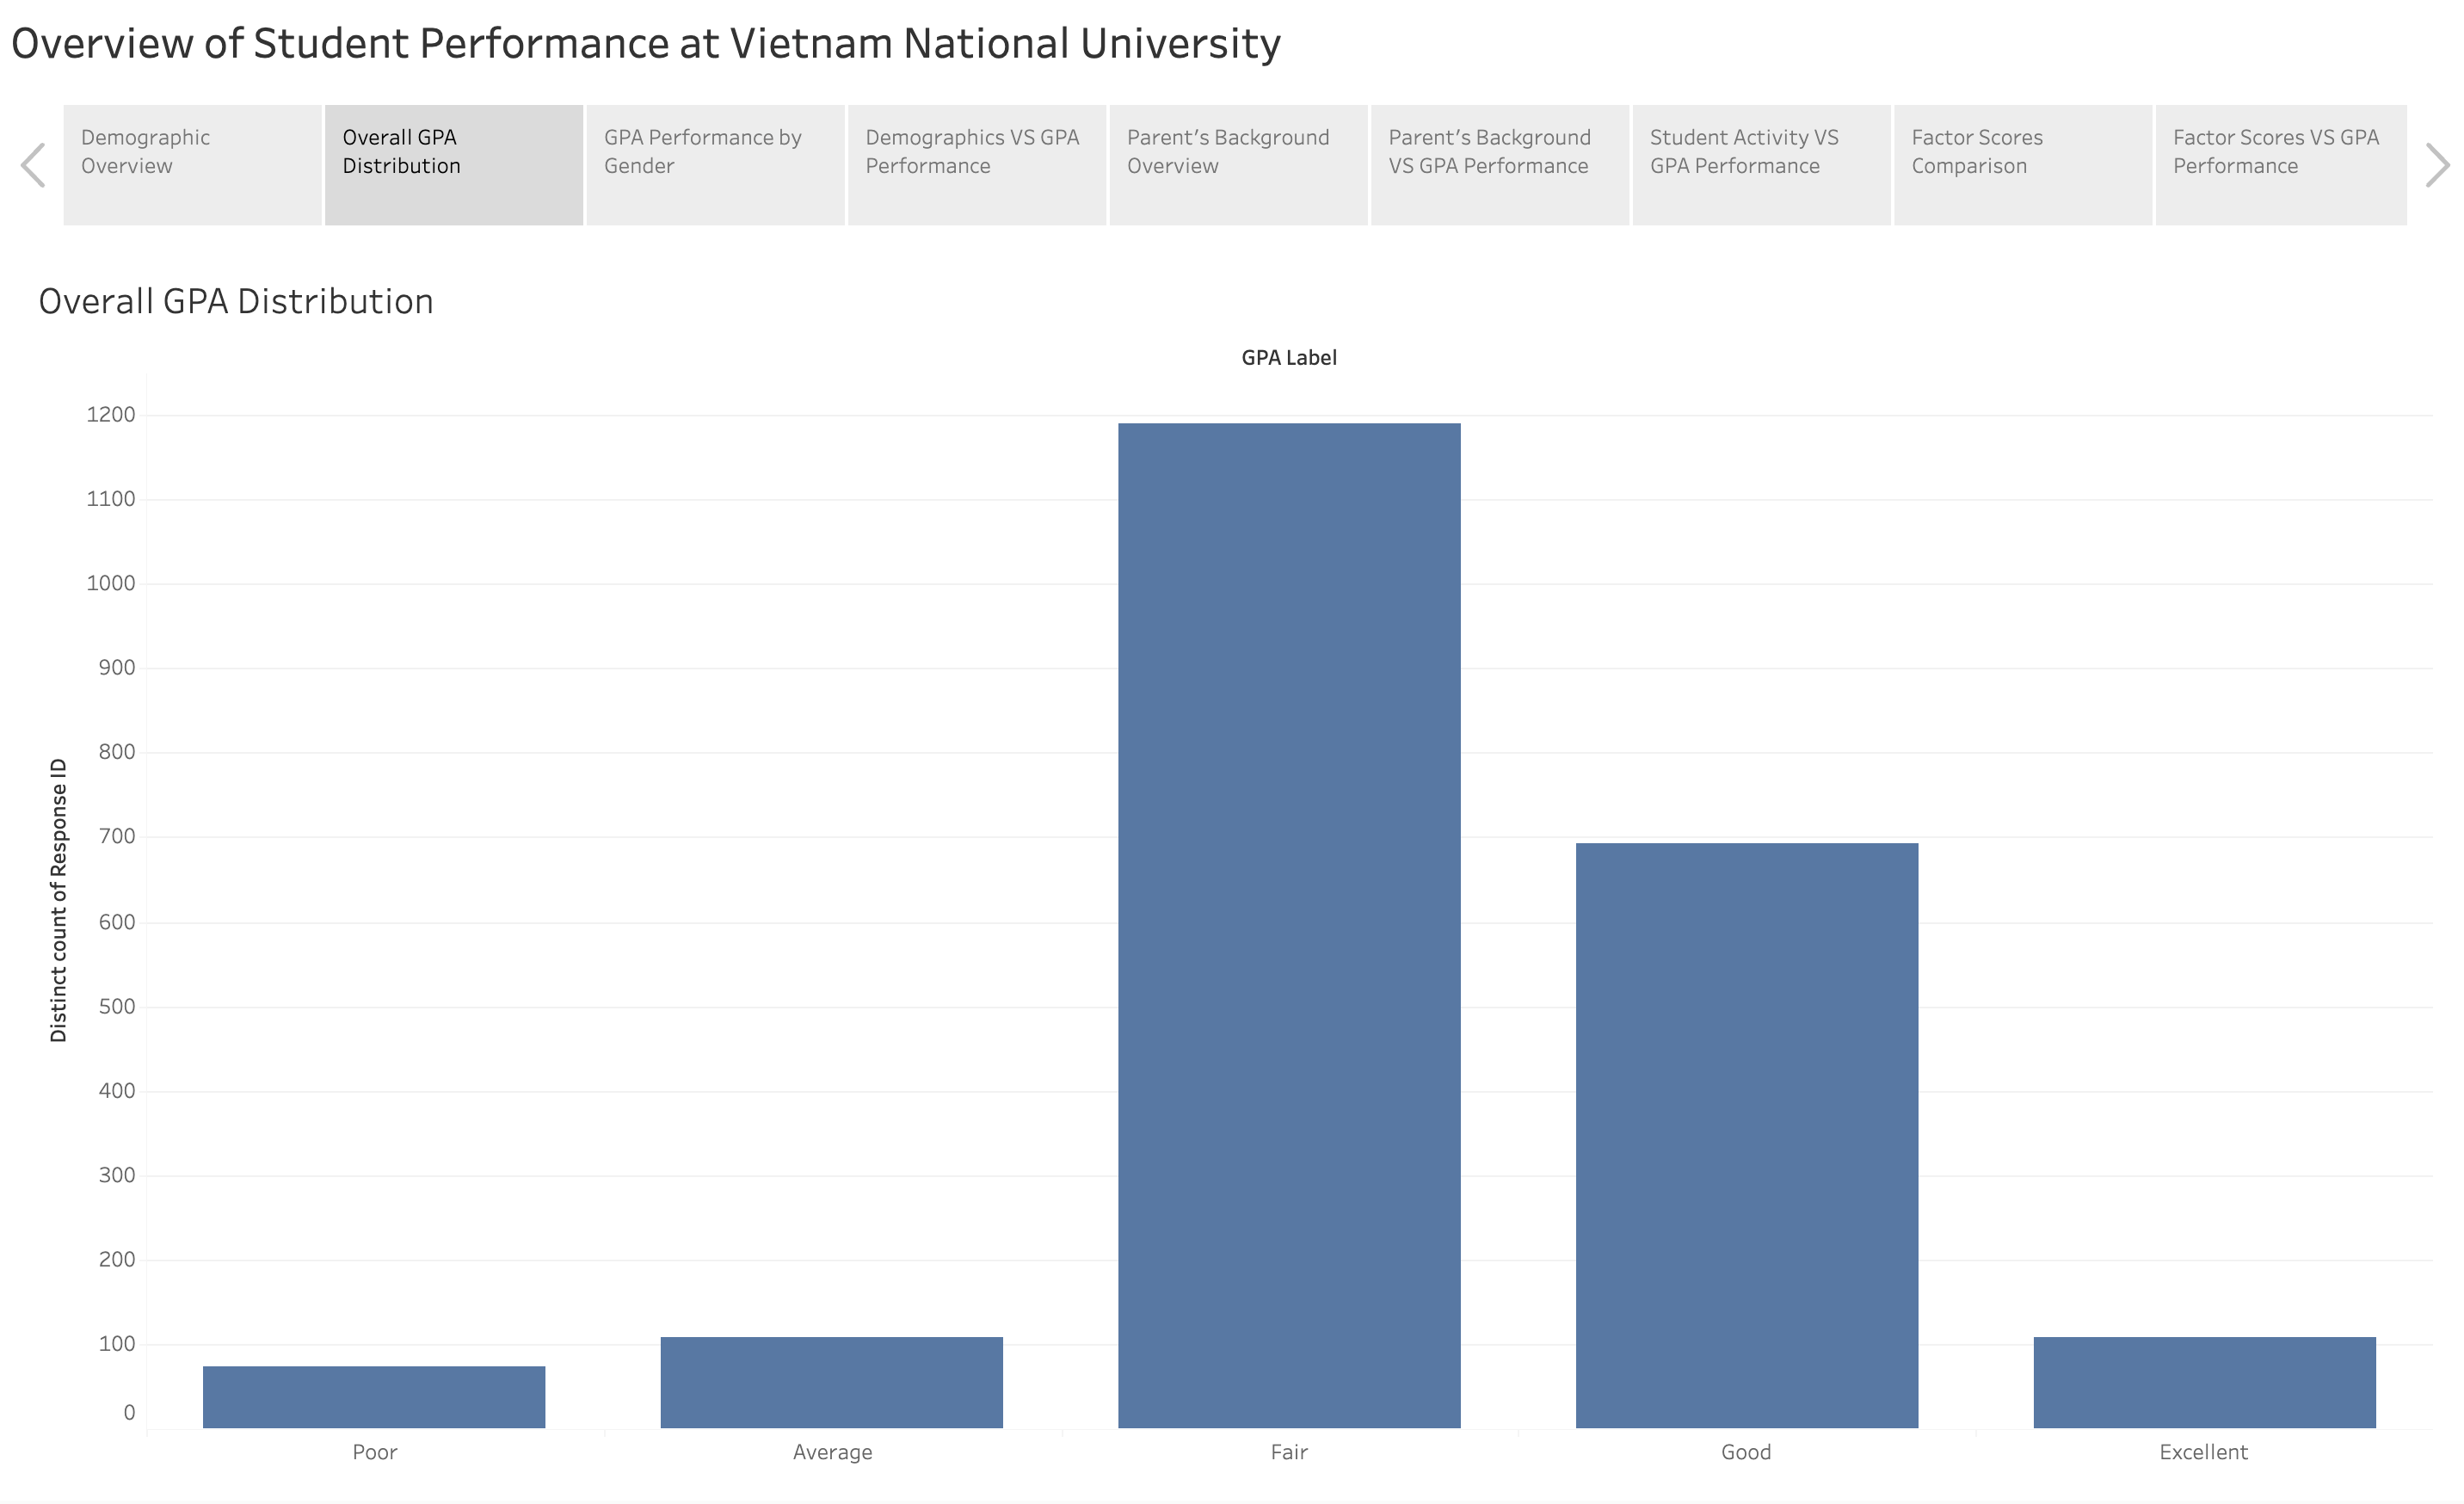

Layout of this report page (visuals, bound fields, positions):
{"tool":"tableau","page":{"name":"Overall GPA","canvas":[1000,1000],"units":"permille","ordinal":5},"visuals":[{"type":"worksheet","title":"Overall GPA Distribution","mark":"Automatic","rows":["Response ID"],"cols":["Calculation_0564434691989520"],"box":[5.7,11.5,988.7,977]}]}

Visuals, with their boxes on the dashboard's canvas, which has no fixed pixel size, in thousandths of its width and height (x1, y1, x2, y2). These are canvas units, not pixel positions in the 2464x1504 screenshot, which may show the page scaled, cropped or inside an application window:
"Overall GPA Distribution" worksheet: [6,12,994,988]
